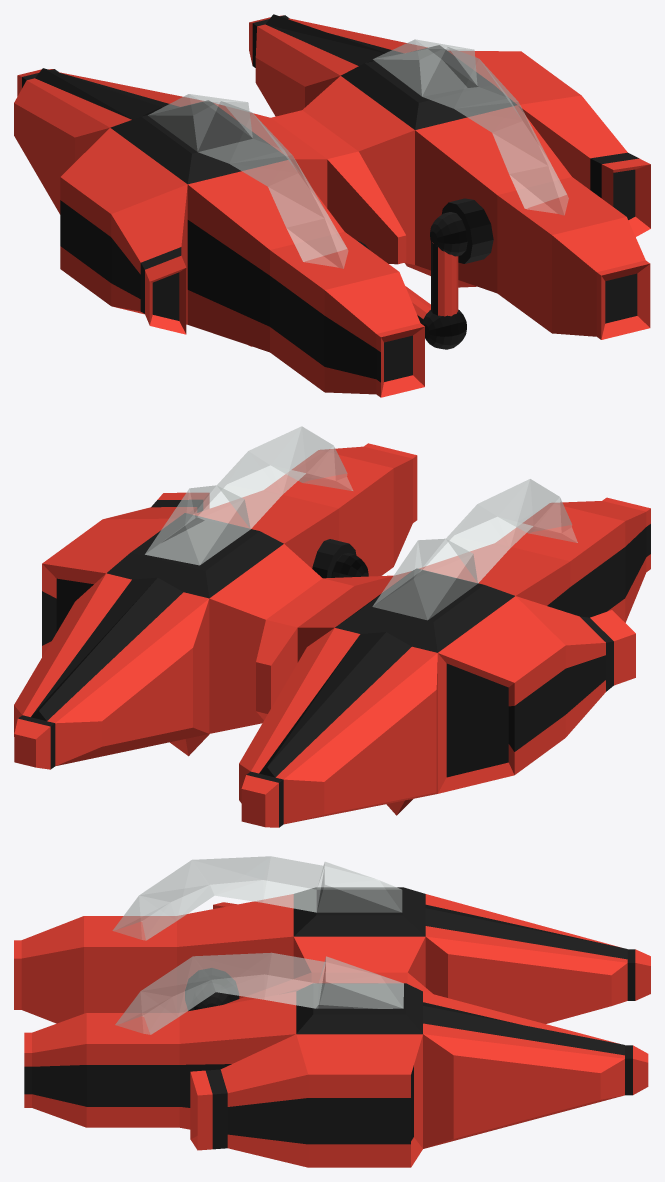
File: vortex.glb
3 renders of one model, top to bottom at view 1: azimuth 30°, elevation 25°; view 2: azimuth 150°, elevation 25°; view 3: azimuth 270°, elevation 25°, orthographic. The views are drawn at different scales.
Visible parts, largest first — view 1: Node; view 2: Node; view 3: Node.
Boxes of the visible parts, left/top/right/bottom form: Node: left=14, top=14, right=650, bottom=397; Node: left=14, top=426, right=650, bottom=827; Node: left=14, top=856, right=650, bottom=1167.
Bounding box in the file's own units: 0.6155 × 0.3138 × 0.82.
